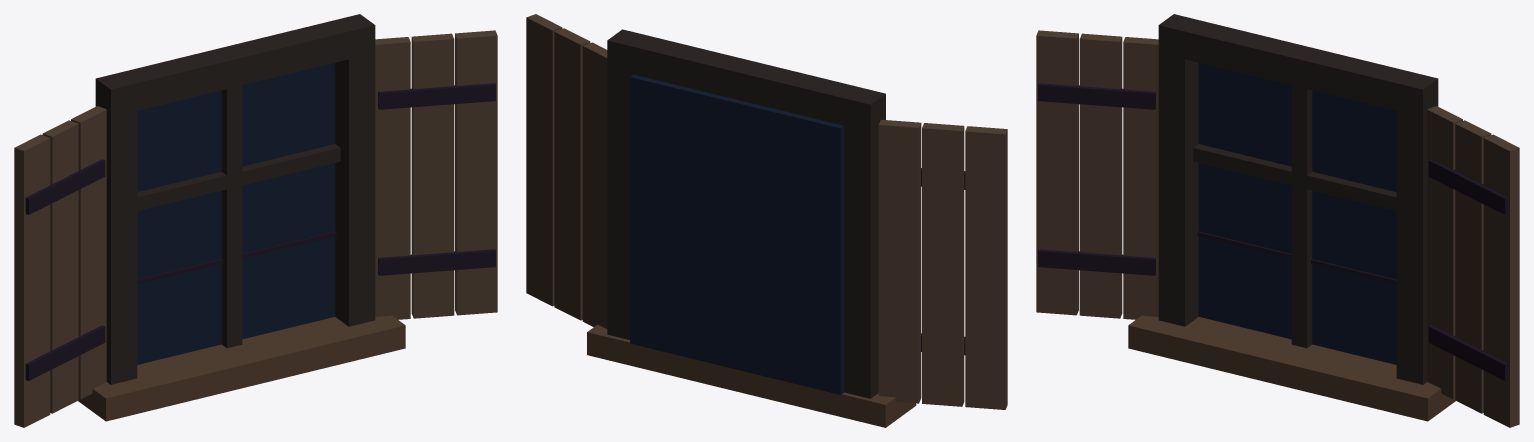
File: kit_timber_window.glb
The picture shows the model from 3 angles, left to right: view 1: azimuth 30°, elevation 25°; view 2: azimuth 150°, elevation 25°; view 3: azimuth 330°, elevation 25°; orthographic projection.
Visible parts, largest first — view 1: kit_timber_window; view 2: kit_timber_window; view 3: kit_timber_window.
Boxes of the visible parts, left/top/right/bottom form: kit_timber_window: left=14, top=14, right=497, bottom=427; kit_timber_window: left=526, top=14, right=1007, bottom=427; kit_timber_window: left=1036, top=14, right=1519, bottom=427.
Size of the model in its own units: 1.09 by 0.69 by 0.1501.
